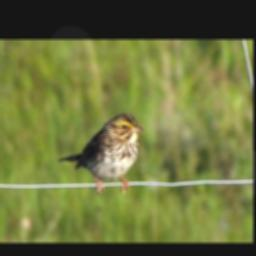Sparrow: (57, 111, 144, 196)
